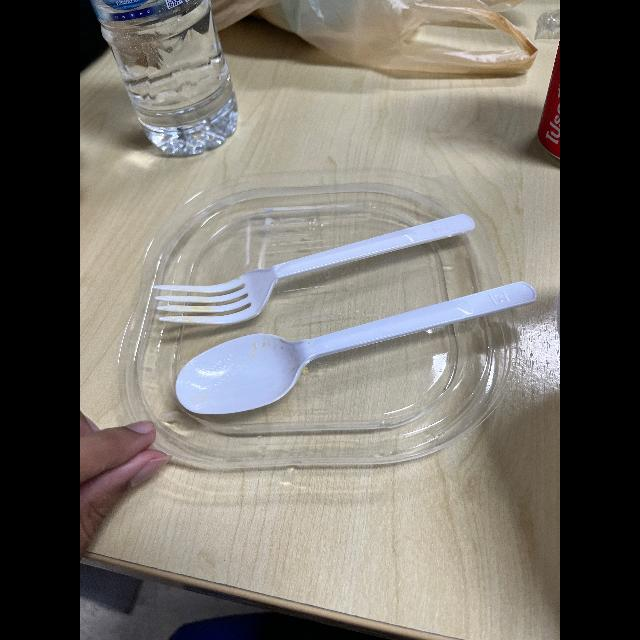plastic_cultery: (160, 276, 552, 414), (140, 205, 478, 328)
